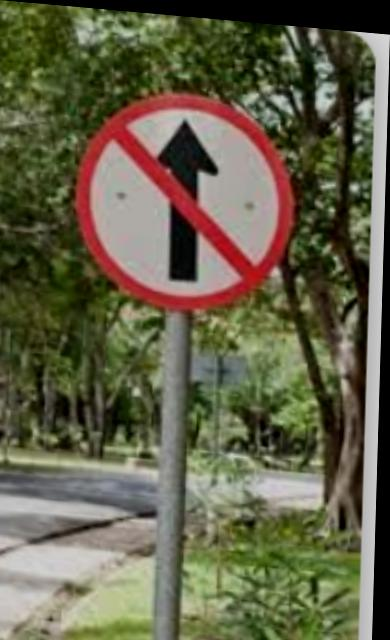not_go_straight: (72, 77, 311, 311)
